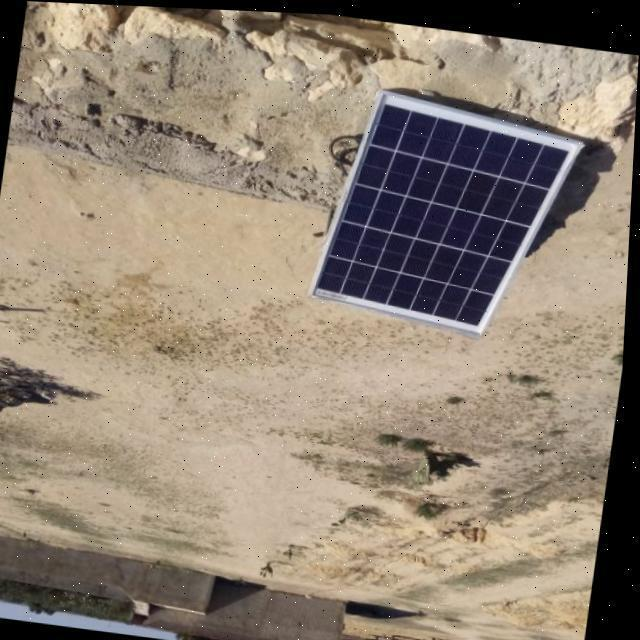Normal Solar Panel: (308, 80, 588, 342)
